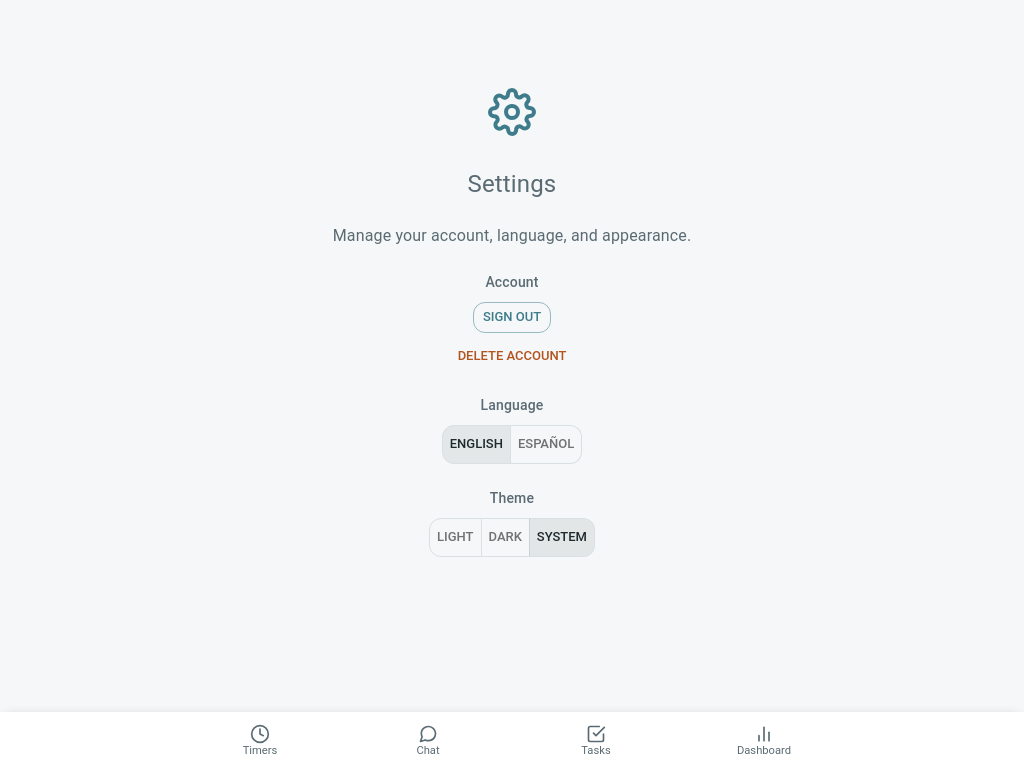
Test case: AppLayout › switches the UI language when the user changes it in Settings
Check: the heading "Settings" is shown, box [468,168,556,200]
Step 1. Click the button "Español" → point(546, 445), box [510,426,582,464]
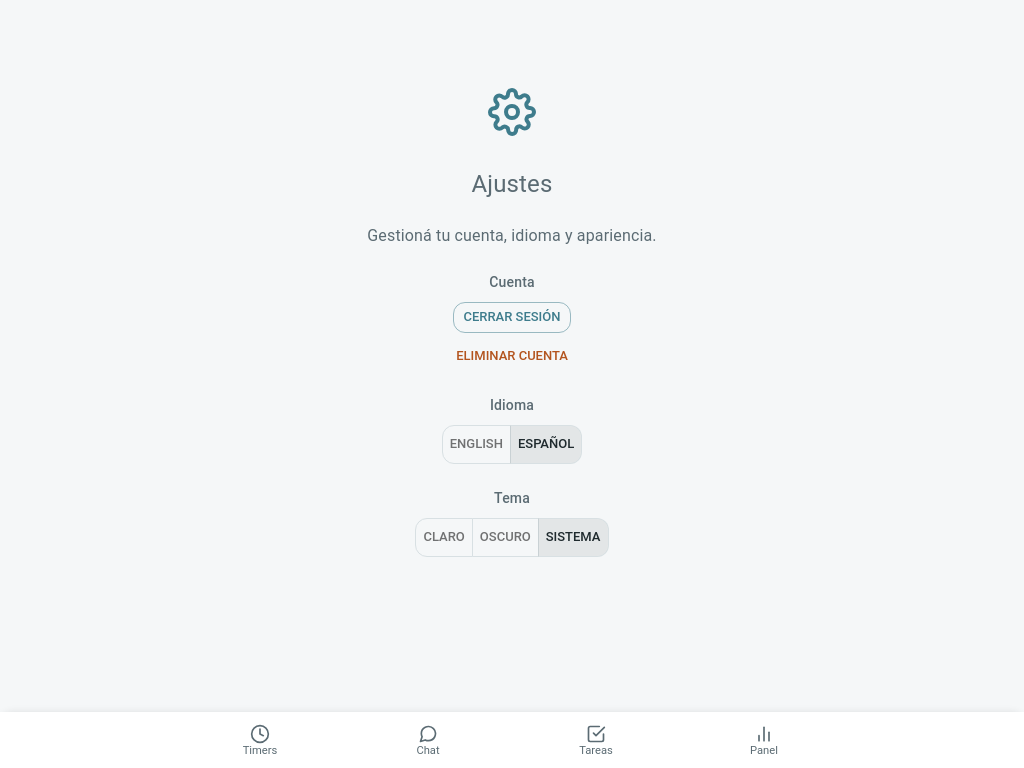
Check: the button "Chat" is shown, box [344,712,512,767]
Check: the heading "Ajustes" is shown, box [472,168,552,200]
